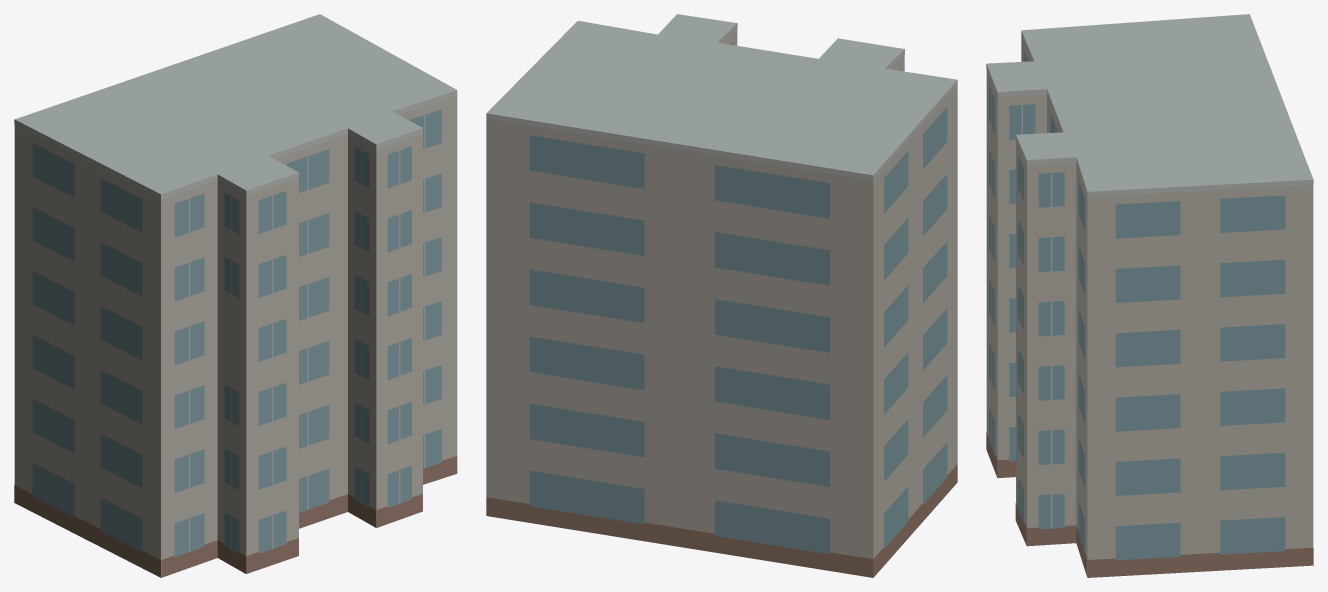
File: survey-upis-32623259.glb
The picture shows the model from 3 angles, left to right: view 1: azimuth 30°, elevation 25°; view 2: azimuth 150°, elevation 25°; view 3: azimuth 270°, elevation 25°; orthographic projection. The views are drawn at different scales.
Visible parts, largest first — view 1: survey-upis-32623259.tmp; view 2: survey-upis-32623259.tmp; view 3: survey-upis-32623259.tmp.
Part boxes in pixels (<box>): survey-upis-32623259.tmp: <box>14,14,457,577</box>; survey-upis-32623259.tmp: <box>486,14,957,577</box>; survey-upis-32623259.tmp: <box>986,14,1313,577</box>.
Bounding box in the file's own units: 17.6 × 17.8 × 13.68.
